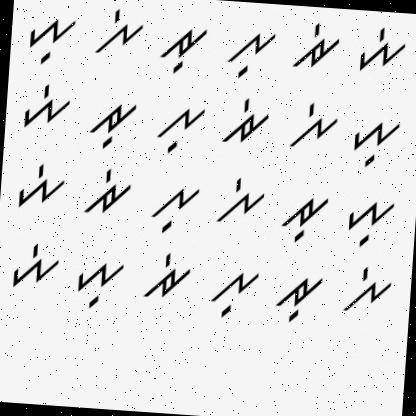le: (211, 166, 270, 234), (282, 96, 341, 156), (338, 260, 396, 320), (95, 4, 150, 58)
lu: (204, 264, 264, 323), (152, 100, 209, 160), (146, 177, 201, 238), (226, 28, 280, 84)
re: (286, 19, 344, 76), (138, 250, 194, 305), (81, 163, 136, 218), (216, 96, 272, 150)
ru: (84, 98, 140, 153), (155, 21, 211, 76), (272, 269, 326, 326), (281, 188, 331, 245)
ye: (12, 158, 69, 213), (18, 81, 76, 133), (7, 240, 62, 292), (354, 23, 408, 75)
yu: (342, 110, 401, 172), (338, 193, 398, 252), (21, 11, 81, 67), (72, 254, 127, 311)
